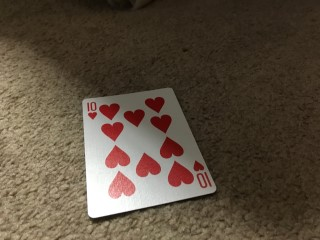TenOfHearts: (81, 88, 215, 219)
